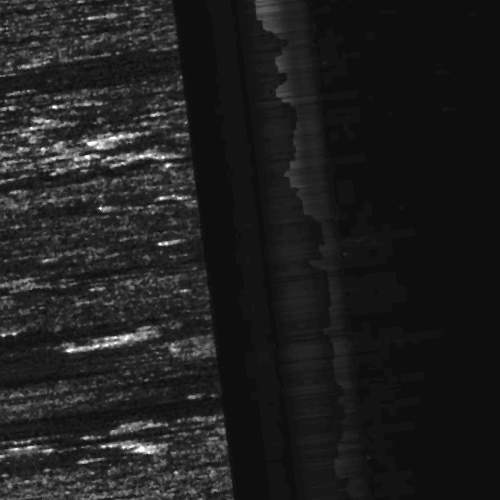object: (0, 34, 79, 47), (79, 319, 162, 326), (0, 411, 42, 422), (0, 248, 48, 255), (0, 474, 23, 479)
shadow: (7, 34, 262, 47), (0, 329, 85, 354), (0, 142, 62, 169), (0, 411, 143, 422), (121, 319, 205, 326), (2, 248, 84, 255), (0, 474, 81, 479)
